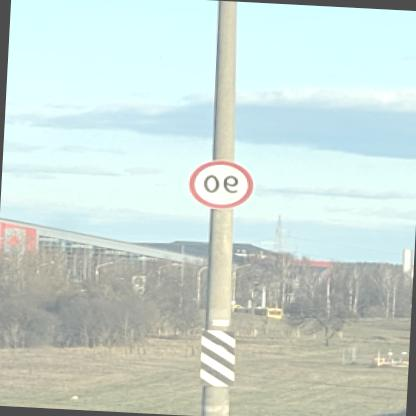speedlimit: (188, 156, 257, 209)
